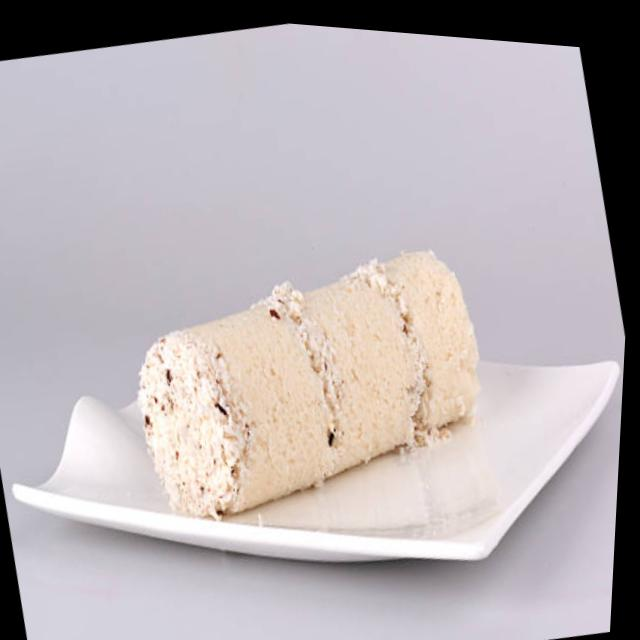PUTTU: (139, 249, 480, 521)
